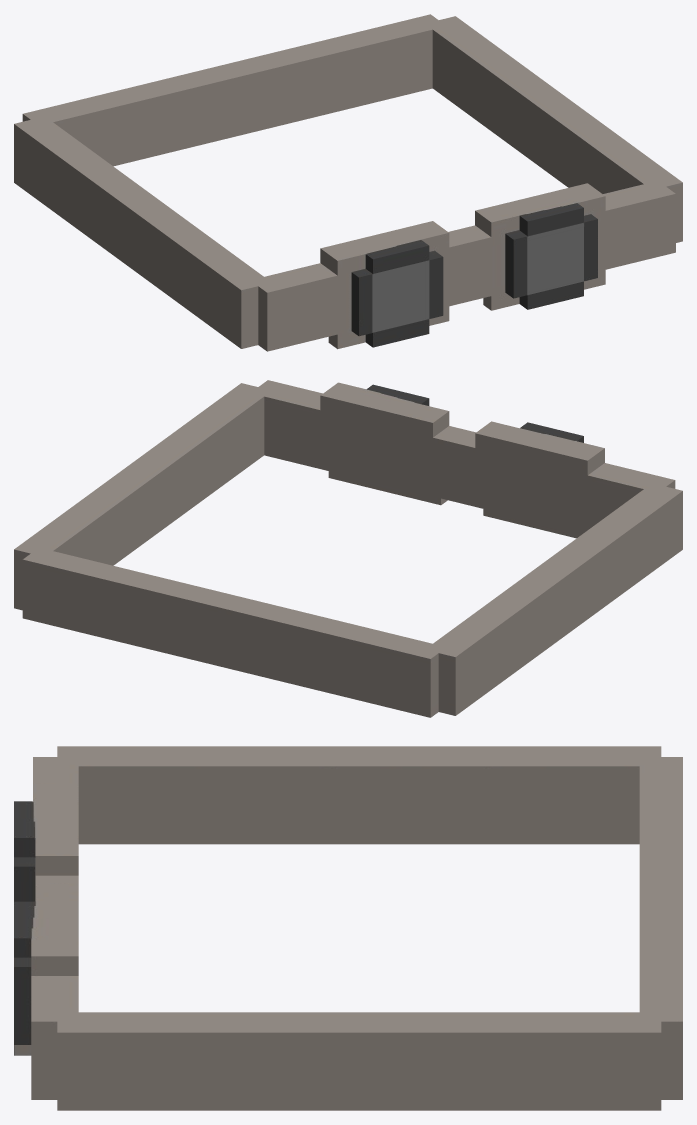
Rendered from goggles.glb.
The picture shows the model from 3 angles, top to bottom: view 1: azimuth 30°, elevation 25°; view 2: azimuth 150°, elevation 25°; view 3: azimuth 270°, elevation 25°; orthographic projection. The views are drawn at different scales.
Visible parts, largest first — view 1: pilot_glasses.001; view 2: pilot_glasses.001; view 3: pilot_glasses.001.
Part boxes in pixels (bbox=[...]): pilot_glasses.001: bbox=[14, 14, 682, 351]; pilot_glasses.001: bbox=[14, 380, 682, 717]; pilot_glasses.001: bbox=[14, 746, 682, 1110].
Size of the model in its own units: 3.14 by 0.6 by 3.1.
Materials: 1 (1 with a texture image).
